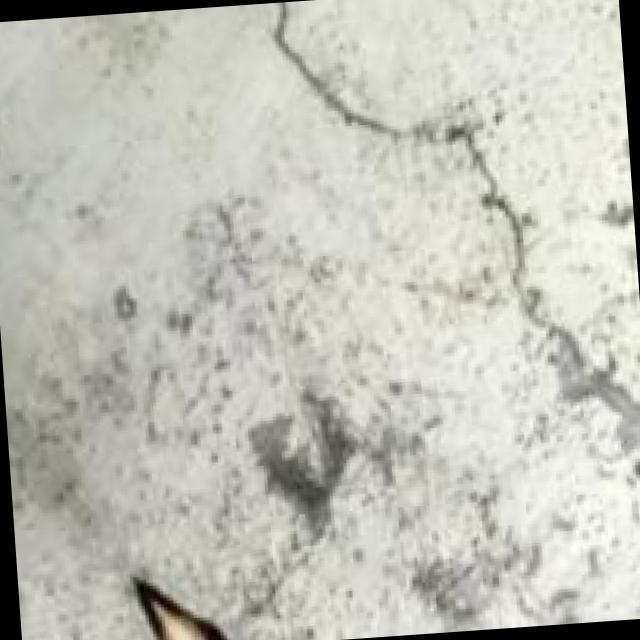crack: (202, 0, 605, 294)
